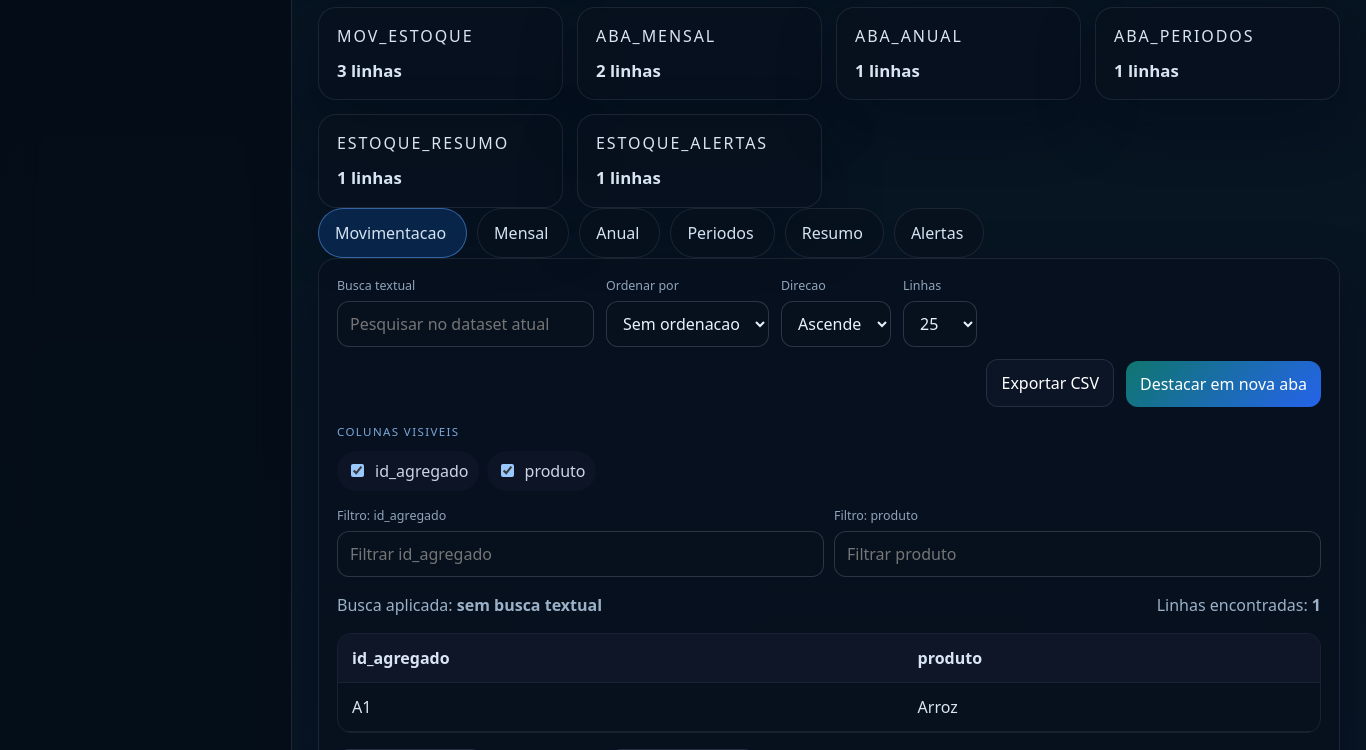
Test: EstoquePage › destaca a tabela em nova aba e persiste o estado local
(page scrolled)
Expected: the button "Movimentacao" is shown, x1=323 y1=213 x2=458 y2=253
Click the button "Destacar em nova aba": (1224, 384) x1=1126 y1=361 x2=1321 y2=407
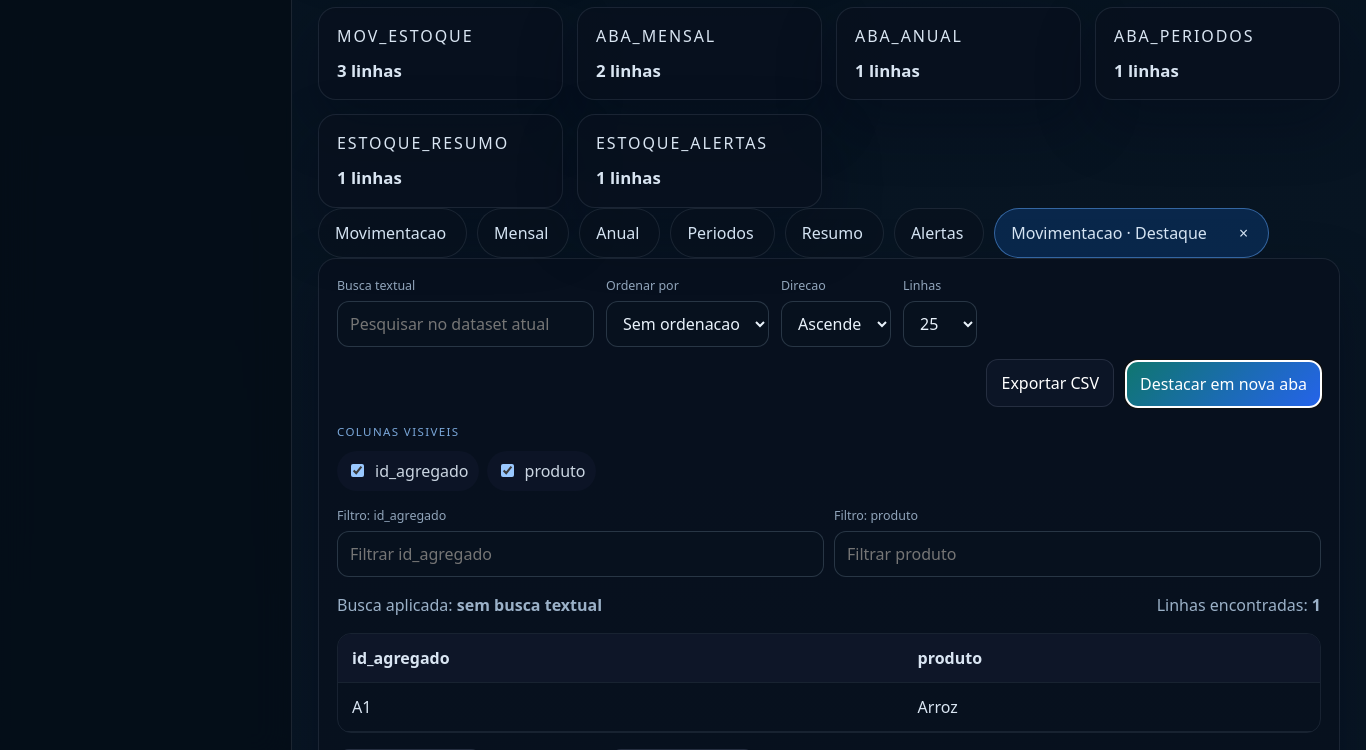
Now the button "Movimentacao · Destaque" is shown, box x1=999 y1=213 x2=1219 y2=253
